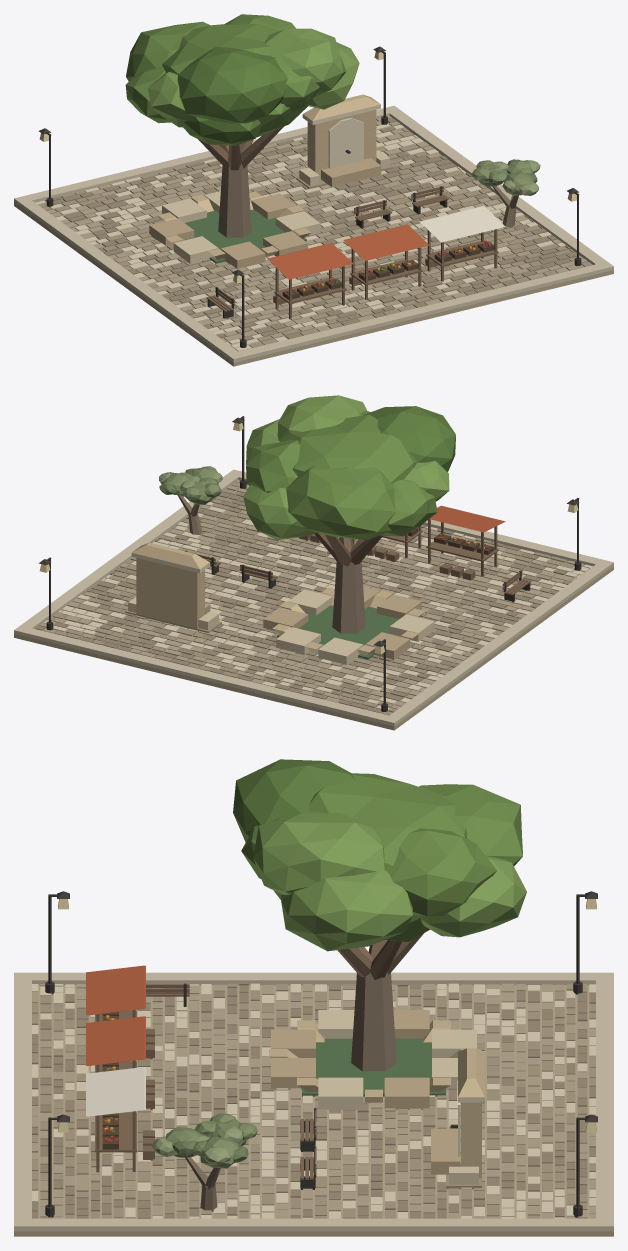
Rendered from merkez-meydani.glb.
3 renders of one model, top to bottom at view 1: azimuth 30°, elevation 25°; view 2: azimuth 150°, elevation 25°; view 3: azimuth 270°, elevation 25°, orthographic. The views are drawn at different scales.
Visible parts, largest first — view 1: yol2, tas4, yol, yol3, bordur, yaprak1, yaprak2, harc, yaprak3, tas3, ahsap, tas2 (+10 smaller); view 2: yaprak1, yol2, tas4, yol, yol3, bordur, harc, yaprak3, tas2, tas1, yaprak2, ahsap (+8 smaller); view 3: harc, yol2, bordur, yol, yol3, tas4, yaprak3, yaprak1, tas3, tente2, yaprak2, tas1 (+10 smaller).
Part boxes in pixels (box(x1,y1,x2,y2)): yol2: box(47, 116, 587, 341); tas4: box(35, 104, 565, 351); yol: box(38, 125, 592, 347); yol3: box(45, 118, 579, 340); bordur: box(14, 105, 613, 362); yaprak1: box(125, 14, 319, 137); yaprak2: box(177, 47, 287, 145); harc: box(14, 117, 613, 366); yaprak3: box(148, 28, 359, 127); tas3: box(149, 158, 381, 268); ahsap: box(206, 186, 498, 319); tas2: box(158, 94, 380, 259); yaprak1: box(246, 411, 437, 540); yol2: box(39, 480, 584, 709); tas4: box(43, 502, 592, 710); yol: box(48, 482, 574, 715); yol3: box(35, 482, 571, 712); bordur: box(14, 469, 613, 726); harc: box(14, 481, 613, 730); yaprak3: box(243, 395, 449, 539); tas2: box(132, 542, 425, 655); tas1: box(128, 589, 434, 664); yaprak2: box(362, 406, 455, 471); ahsap: box(183, 519, 531, 595); harc: box(14, 985, 613, 1236); yol2: box(32, 983, 595, 1218); bordur: box(14, 972, 613, 1231); yol: box(32, 983, 595, 1218); yol3: box(32, 983, 595, 1218); tas4: box(32, 983, 595, 1218); yaprak3: box(253, 811, 526, 951); yaprak1: box(241, 773, 522, 941); tas3: box(271, 1010, 460, 1174); tente2: box(86, 965, 145, 1065); yaprak2: box(233, 759, 354, 842); tas1: box(318, 1010, 478, 1184).
Size of the model in its own units: 20.01 by 10.58 by 20.
